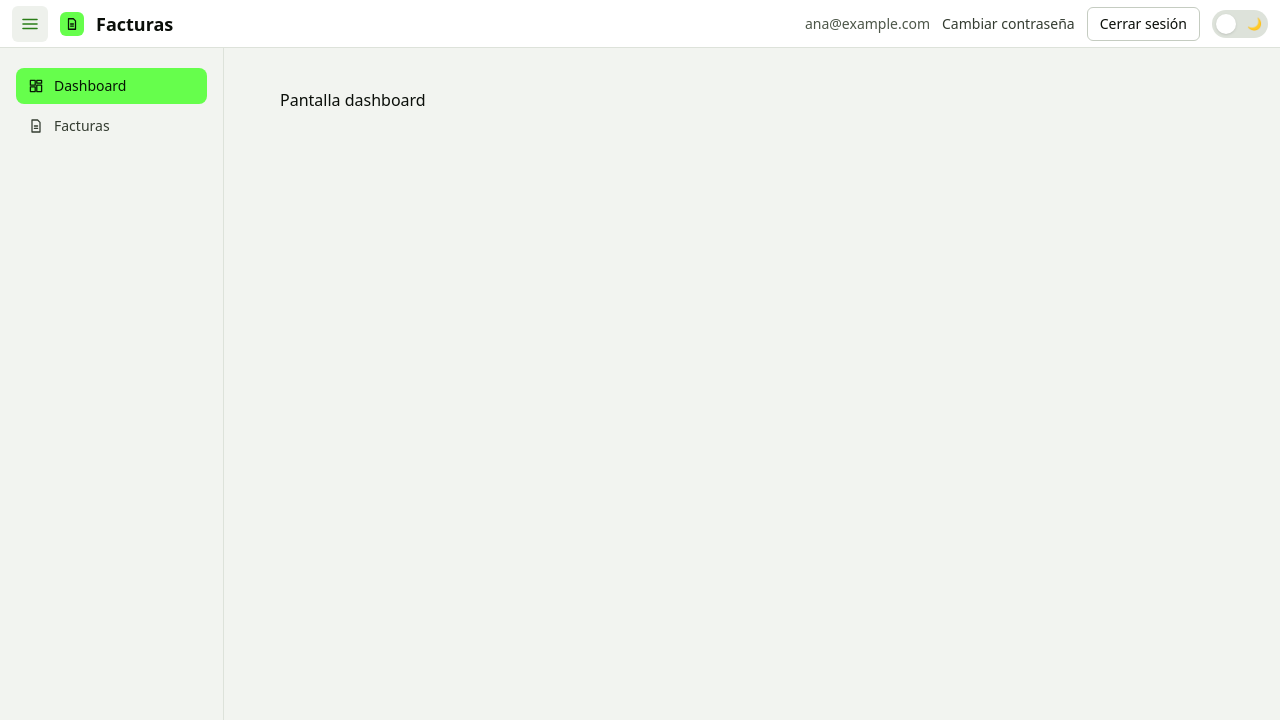
Test: AppShell › mueve el foco al contenido al cambiar de ruta, pero no al cargar la primera
Click the link "Facturas" at (69, 126), box [28,116,110,135]
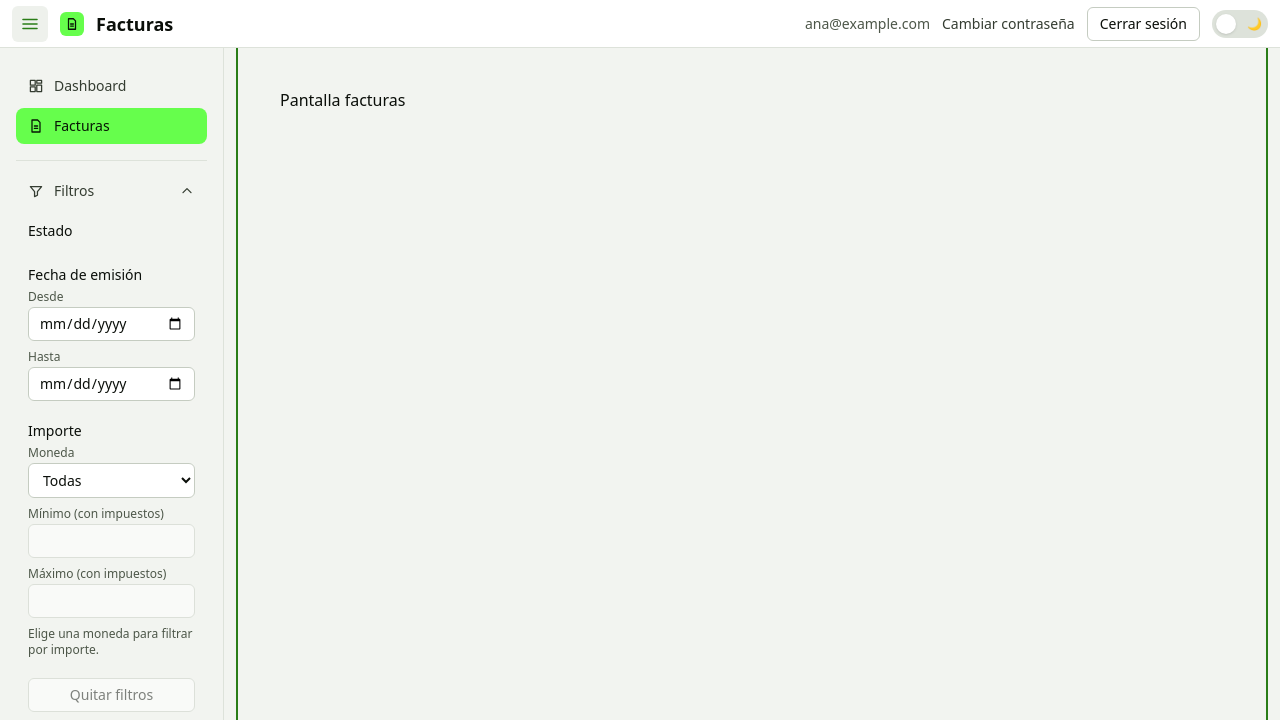
Expected: the text "Pantalla facturas" is shown, [280,89,406,111]
